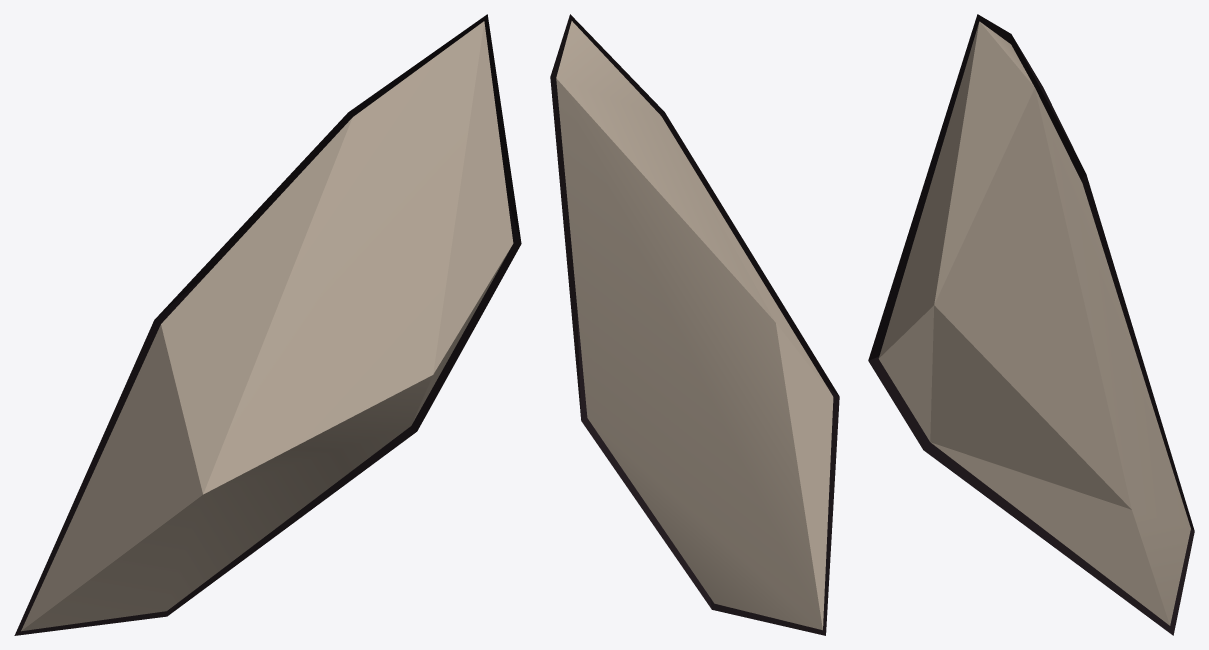
The model's file is SM_Mtn_Shard_02.fbx.
The picture shows the model from 3 angles, left to right: view 1: azimuth 30°, elevation 25°; view 2: azimuth 150°, elevation 25°; view 3: azimuth 270°, elevation 25°; orthographic projection. The views are drawn at different scales.
Visible parts, largest first — view 1: SM_Mtn_Shard_02; view 2: SM_Mtn_Shard_02; view 3: SM_Mtn_Shard_02.
Part boxes in pixels (box(x1,y1,x2,y2)): SM_Mtn_Shard_02: box(14, 14, 521, 635); SM_Mtn_Shard_02: box(550, 14, 839, 635); SM_Mtn_Shard_02: box(868, 14, 1194, 635).
Bounding box in the file's own units: 3.98 × 5.62 × 2.14.
